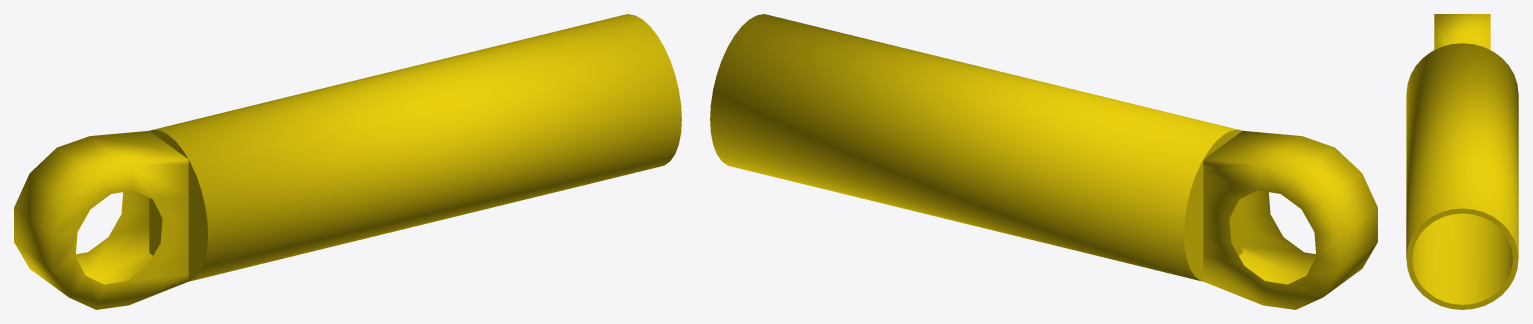
File: outer_tube_with_eye.dae
3 renders of one model, left to right at view 1: azimuth 30°, elevation 25°; view 2: azimuth 150°, elevation 25°; view 3: azimuth 270°, elevation 25°, orthographic. The views are drawn at different scales.
Parts seen in each view (by area): view 1: tube; view 2: tube; view 3: tube.
Boxes of the visible parts, x1,y1,x2,y2 form: tube: (14,14,681,309); tube: (710,14,1377,309); tube: (1406,14,1518,309).
Size of the model in its own units: 0.897 by 0.2 by 0.2.
